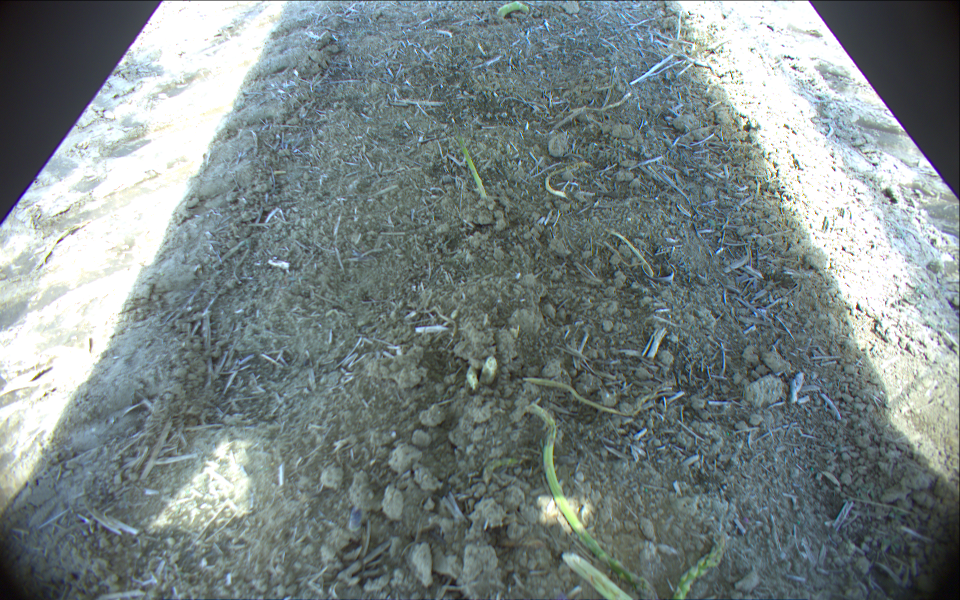aspa: (523, 403, 658, 600), (522, 376, 673, 414), (670, 535, 728, 600), (562, 551, 629, 600), (452, 126, 484, 198), (544, 159, 589, 197), (496, 1, 531, 17), (347, 506, 363, 535)
